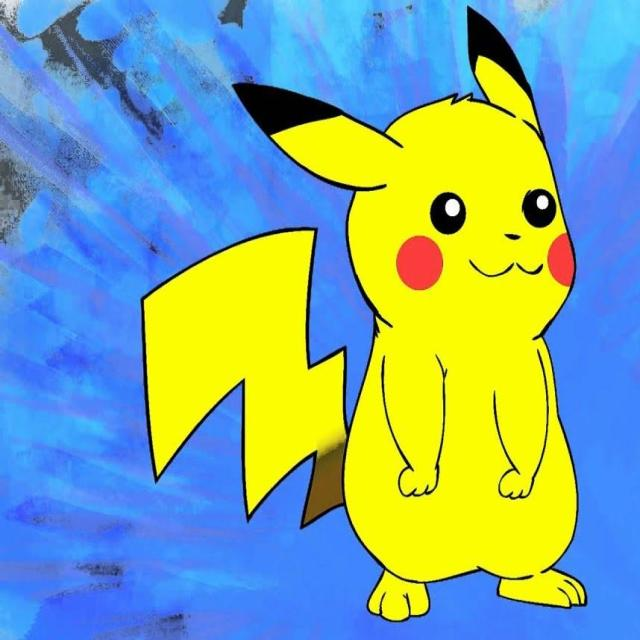pikachu: (142, 7, 587, 624)
